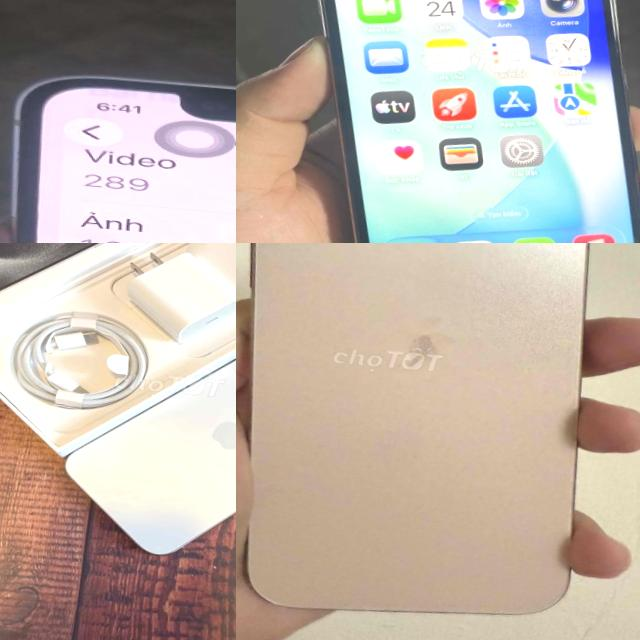scratch: (598, 0, 627, 41)
